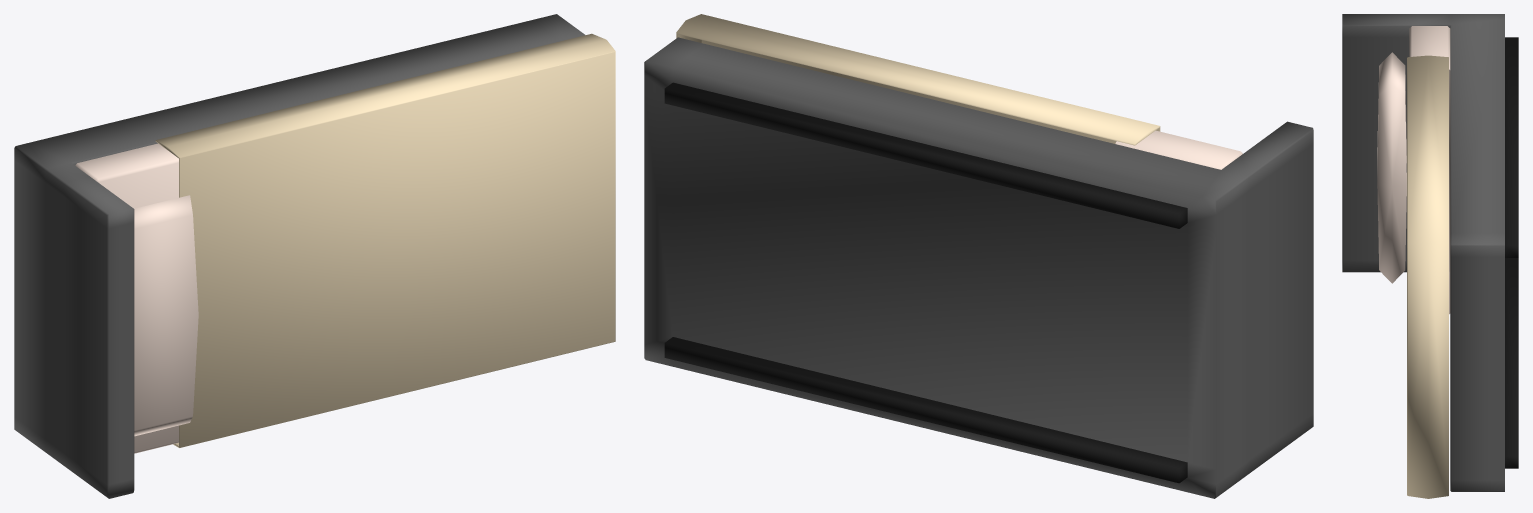
File: bed.obj
3 renders of one model, left to right at view 1: azimuth 30°, elevation 25°; view 2: azimuth 150°, elevation 25°; view 3: azimuth 270°, elevation 25°, orthographic. The views are drawn at different scales.
Visible parts, largest first — view 1: Bed.002_Cube_Cube.002; view 2: Bed.002_Cube_Cube.002; view 3: Bed.002_Cube_Cube.002.
Boxes of the visible parts, x1,y1,x2,y2 form: Bed.002_Cube_Cube.002: (14, 14, 615, 498); Bed.002_Cube_Cube.002: (644, 14, 1313, 498); Bed.002_Cube_Cube.002: (1342, 14, 1518, 498).
Size of the model in its own units: 2.02 by 1.04 by 0.645.
Materials: 1 (1 with a texture image).
